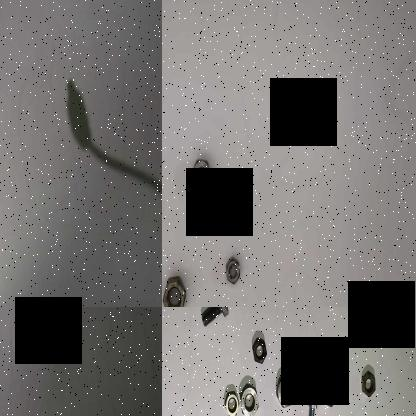Bolts: (194, 307, 232, 336), (300, 388, 320, 416)
NUTS: (186, 152, 214, 210), (162, 268, 192, 307), (272, 365, 297, 410), (219, 251, 247, 291), (316, 365, 340, 410), (238, 378, 260, 416), (357, 364, 377, 400), (218, 385, 240, 416), (251, 332, 269, 364)
